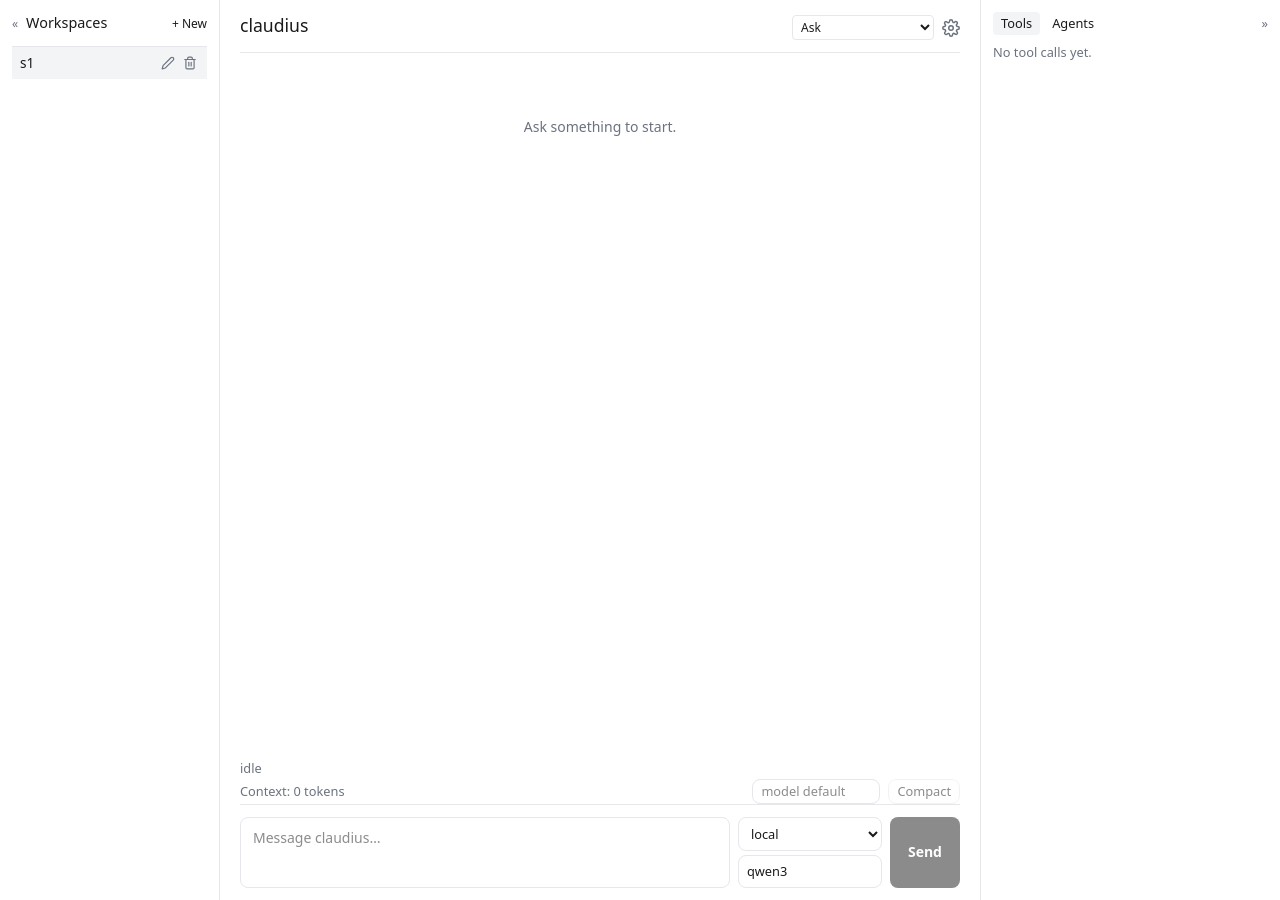
Test case: App › the gear button on the right of the header opens the providers panel
Click the button named "Settings".
click(951, 28)  # box x1=942 y1=18 x2=960 y2=36
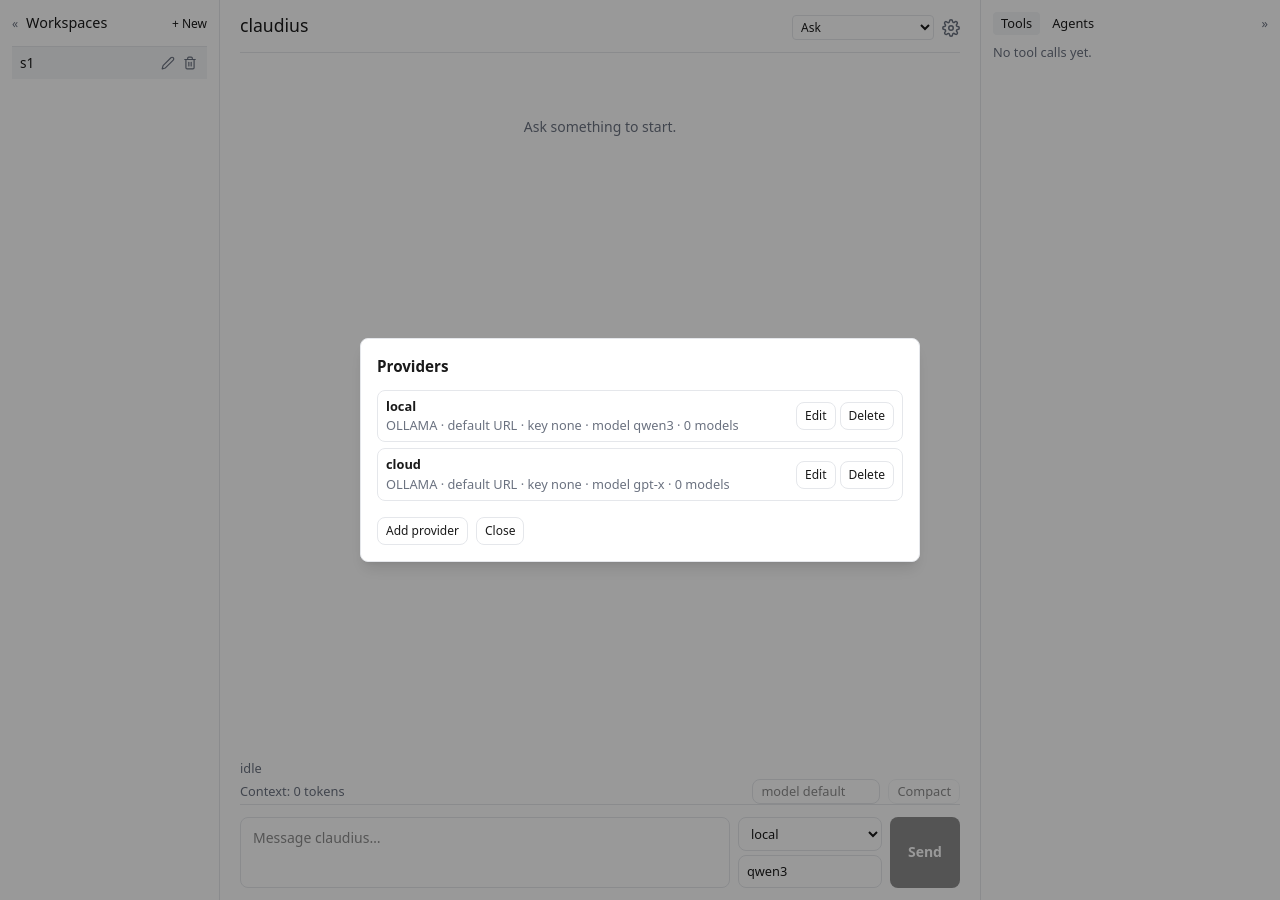
expect the dialog "Providers" is shown: met
